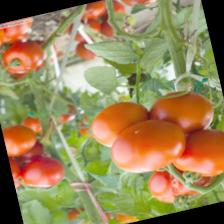tomato: (103, 112, 192, 180), (144, 82, 218, 143), (142, 155, 217, 215), (164, 121, 224, 187)
